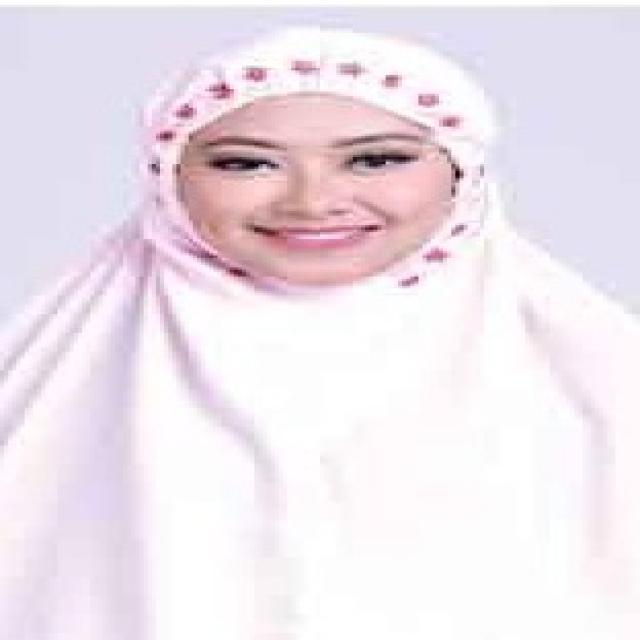head: (154, 20, 489, 295)
